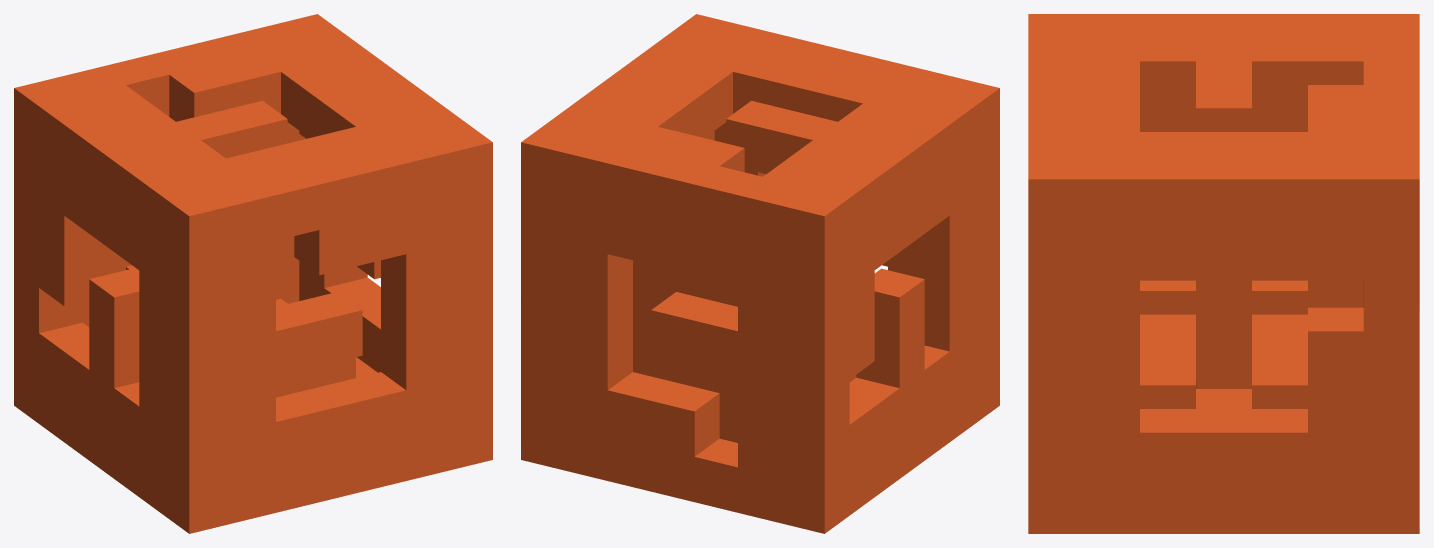
File: item-box-open.obj
The picture shows the model from 3 angles, left to right: view 1: azimuth 30°, elevation 25°; view 2: azimuth 150°, elevation 25°; view 3: azimuth 270°, elevation 25°; orthographic projection. The views are drawn at different scales.
Parts seen in each view (by area): view 1: blender-box-open_V03.001; view 2: blender-box-open_V03.001; view 3: blender-box-open_V03.001.
Part boxes in pixels (<box>): blender-box-open_V03.001: <box>14,14,492,533</box>; blender-box-open_V03.001: <box>521,14,999,533</box>; blender-box-open_V03.001: <box>1028,14,1419,533</box>.
Size of the model in its own units: 0.7 by 0.7 by 0.7.
Materials: 1 (1 with a texture image).
